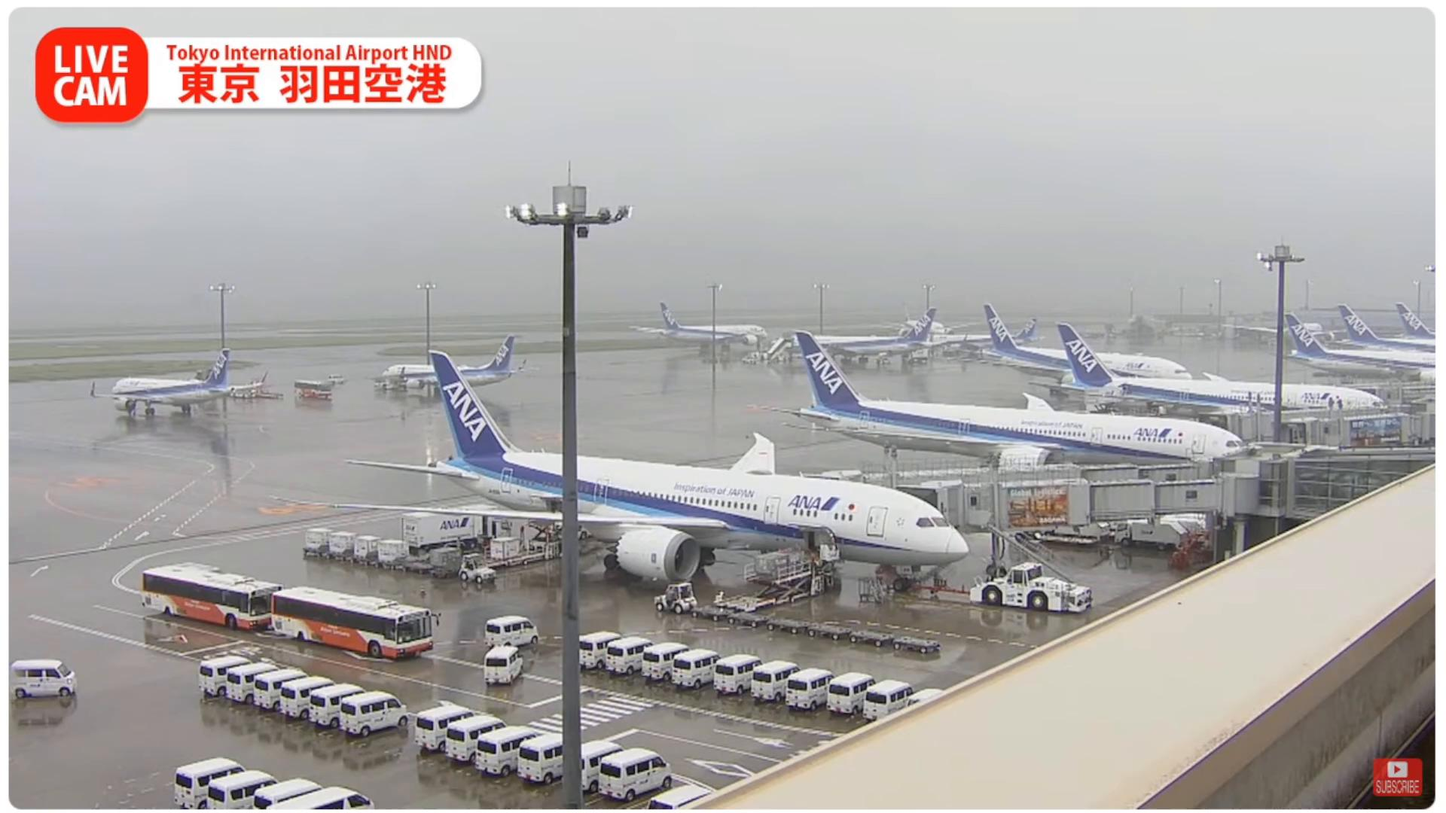APS: (968, 562, 1094, 614)
Aerobridge: (892, 474, 1261, 535), (796, 455, 1210, 487)
Airplane: (270, 351, 970, 592)
Catering: (400, 500, 512, 550)
Dolly: (692, 605, 940, 654), (305, 544, 463, 580)
JCPL: (711, 554, 833, 609), (455, 521, 563, 567)
Tractor: (653, 582, 699, 614), (458, 552, 497, 585)
Window: (1292, 458, 1433, 516)
